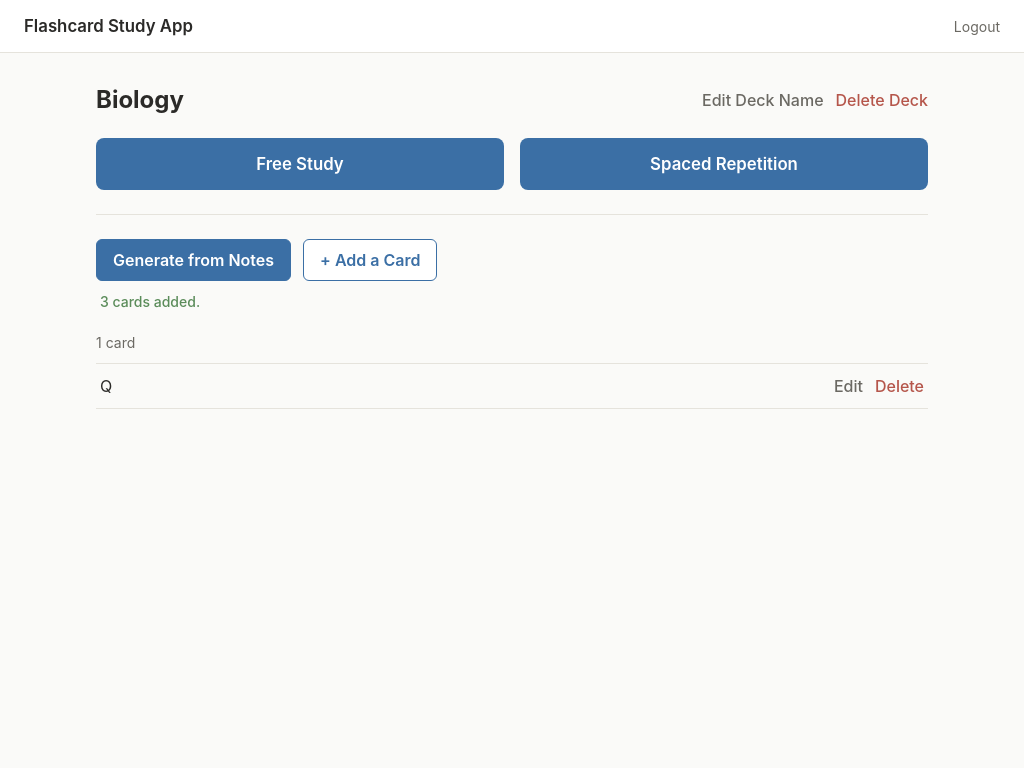
Test: DeckDetailPage › clears the added-cards message on opening the add form
This screenshot has width=1024, height=768.
Check: the text "3 cards added." is shown, box [100,293,200,310]
Click the button "+ Add a Card" at {"x": 370, "y": 260}, box [303,239,438,281]
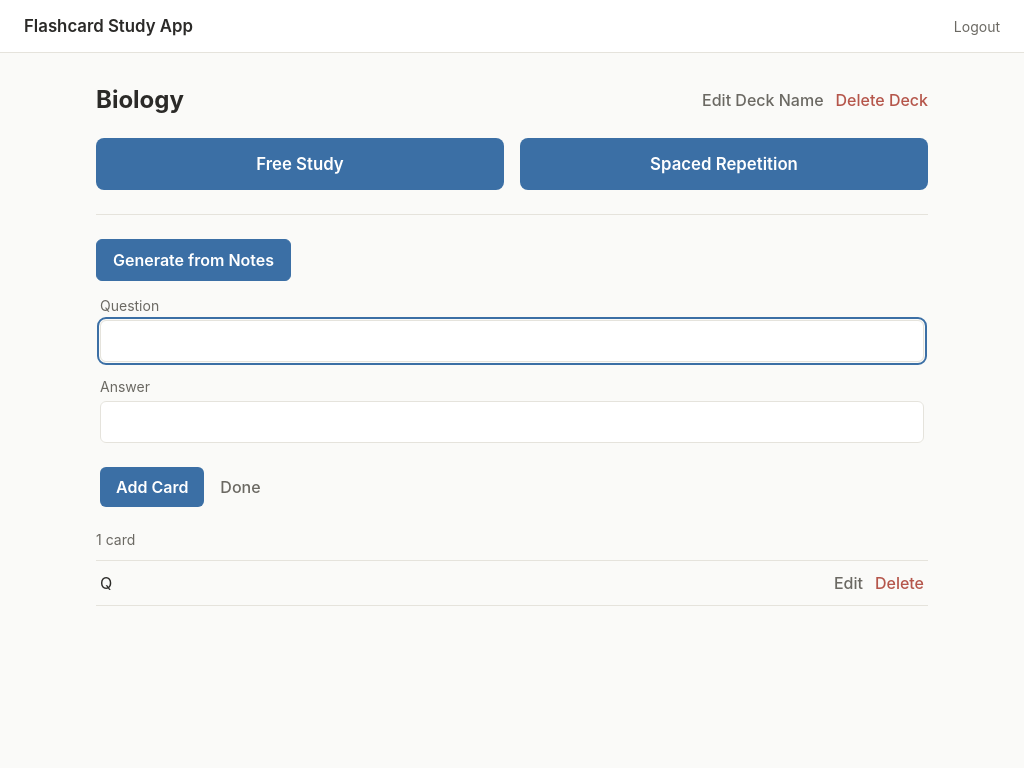
Check: the text "3 cards added." is gone
